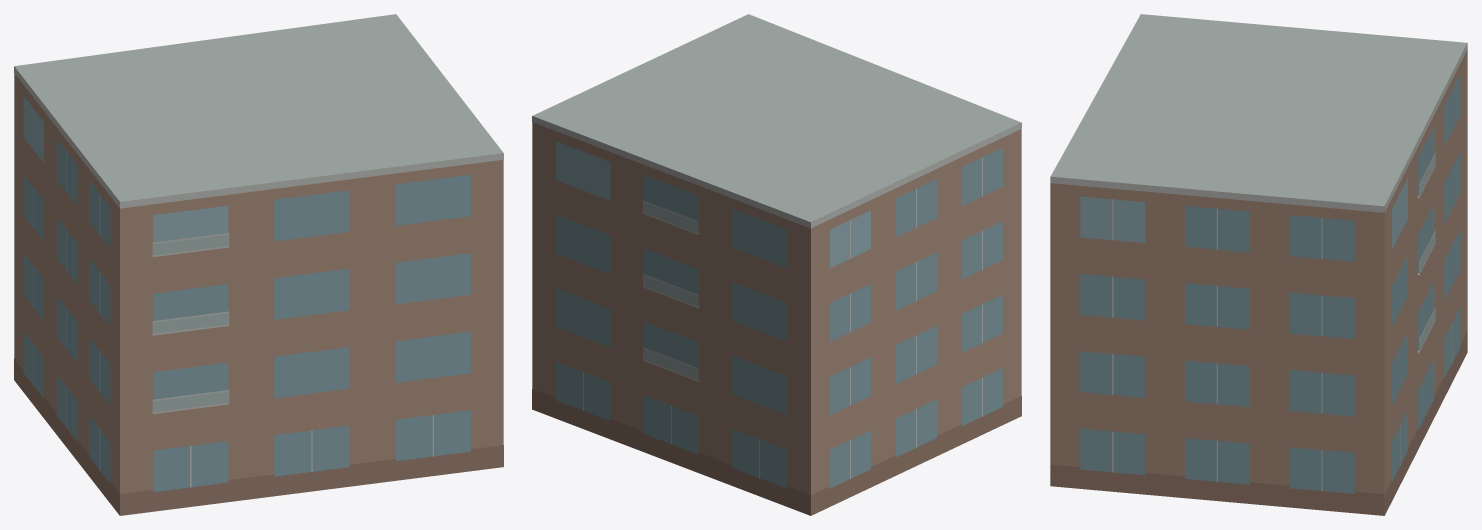
File: survey-upis-32704956.glb
3 renders of one model, left to right at view 1: azimuth 30°, elevation 25°; view 2: azimuth 150°, elevation 25°; view 3: azimuth 270°, elevation 25°, orthographic. The views are drawn at different scales.
Visible parts, largest first — view 1: survey-upis-32704956.tmp; view 2: survey-upis-32704956.tmp; view 3: survey-upis-32704956.tmp.
Boxes of the visible parts, x1,y1,x2,y2 form: survey-upis-32704956.tmp: (14,14,503,515); survey-upis-32704956.tmp: (532,14,1021,515); survey-upis-32704956.tmp: (1050,14,1467,515).
Bounding box in the file's own units: 15.47 × 11.6 × 14.18.
